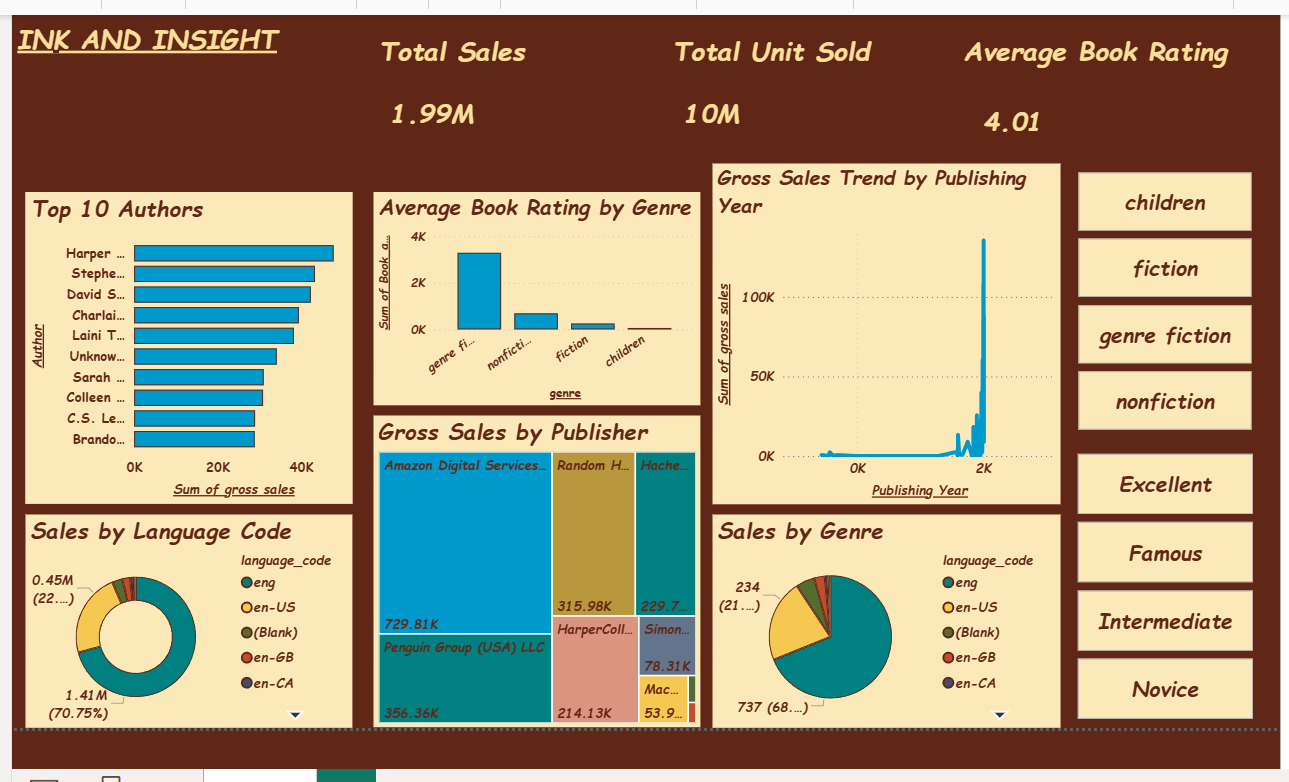

What the dashboard file says about the page in this screenshot:
{"tool":"powerbi","page":{"name":"Page 1","canvas":[1280,720],"ordinal":0},"visuals":[{"type":"textbox","box":[0,0,293.8,83.3],"z":0},{"type":"cardVisual","title":"Total Sales","fields":{"Data":["public book_sales.gross sales"]},"box":[364.9,16.7,199.9,112.1],"z":1000},{"type":"cardVisual","title":"Total Unit Sold","fields":{"Data":["public book_sales.units sold"]},"box":[661.7,16.7,221.1,110.5],"z":1001},{"type":"cardVisual","title":"Average Book Rating","fields":{"Data":["public book_sales.Book_average_rating"]},"box":[955.5,16.7,280.1,110.5],"z":1002},{"type":"clusteredBarChart","title":"Top 10 Authors ","fields":{"Category":["public book_sales.Author"],"Y":["public book_sales.gross sales"]},"box":[13.6,178.7,330.1,315],"z":1003},{"type":"clusteredColumnChart","title":"Average Book Rating by Genre","fields":{"Category":["public book_sales.genre"],"Y":["public book_sales.Book_average_rating"]},"box":[364.9,178.7,330.1,215],"z":1004},{"type":"treemap","title":"Gross Sales by Publisher","fields":{"Group":["public book_sales.Publisher "],"Values":["public book_sales.gross sales"]},"box":[364.9,404.3,330.1,315],"z":1005},{"type":"lineChart","title":"Gross Sales Trend by Publishing Year","fields":{"Category":["public book_sales.Publishing Year"],"Y":["public book_sales.gross sales"]},"box":[707.1,149.9,351.3,343.7],"z":1006},{"type":"donutChart","title":"Sales by Language Code","fields":{"Category":["public book_sales.language_code"],"Y":["public book_sales.gross sales"]},"box":[13.6,504.2,330.1,215],"z":1007},{"type":"pieChart","title":"Sales by Genre","fields":{"Category":["public book_sales.language_code"],"Y":["public book_sales.genre"]},"box":[707.1,504.2,351.3,215],"z":1008},{"type":"advancedSlicerVisual","fields":{"Values":["public book_sales.genre"]},"box":[1070.5,152.9,187.8,274.1],"z":1009},{"type":"advancedSlicerVisual","fields":{"Values":["public book_sales.Author_Rating"]},"box":[1070.5,437.6,187.8,281.6],"z":1010}]}

Visuals, with their boxes in screenshot pixels (x1, y1, x2, y2):
textbox: 7/10/298/93
"Total Sales" cardVisual: 369/27/568/138
"Total Unit Sold" cardVisual: 664/27/883/136
"Average Book Rating" cardVisual: 956/27/1234/136
"Top 10 Authors " clusteredBarChart: 20/188/348/500
"Average Book Rating by Genre" clusteredColumnChart: 369/188/697/401
"Gross Sales by Publisher" treemap: 369/412/697/724
"Gross Sales Trend by Publishing Year" lineChart: 709/159/1058/500
"Sales by Language Code" donutChart: 20/511/348/724
"Sales by Genre" pieChart: 709/511/1058/724
advancedSlicerVisual - public book_sales.genre: 1070/162/1256/434
advancedSlicerVisual - public book_sales.Author_Rating: 1070/445/1256/724
